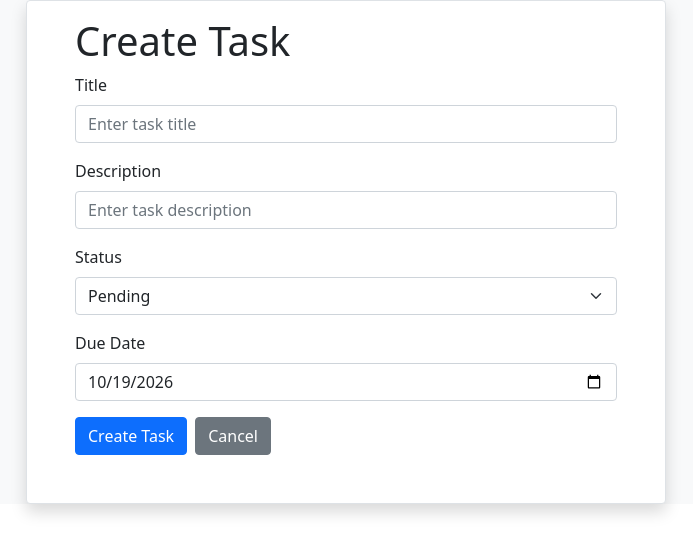
Scenario: addtask functionality › shows error if title is empty
Step 1. Click the button "Create Task" → (131,436), box [75, 417, 187, 455]
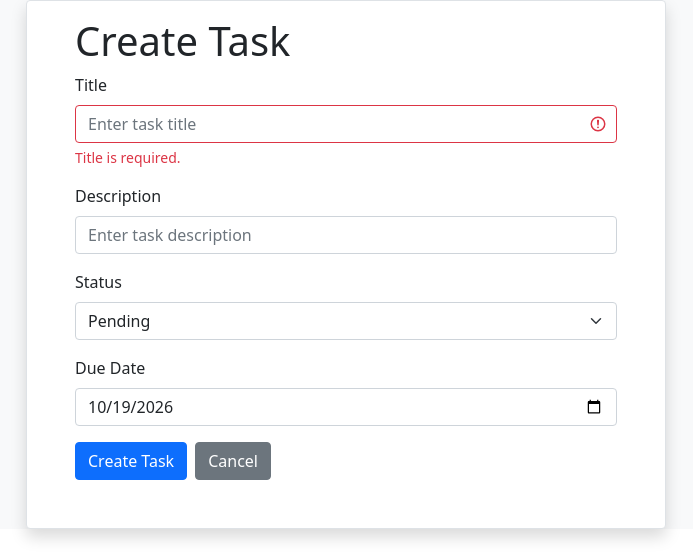
Check: the text "Title is required." is shown, box [75, 148, 181, 167]
